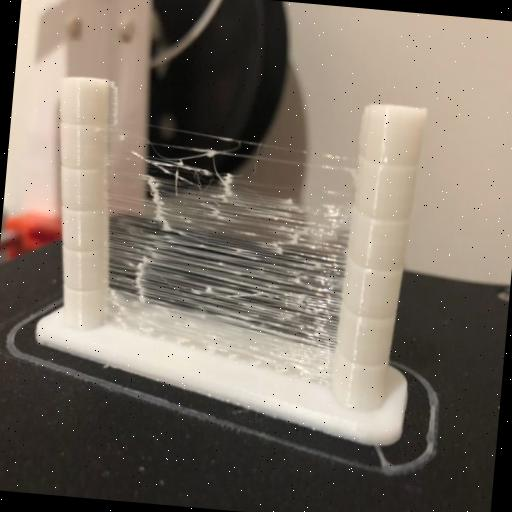stringing: (106, 115, 353, 383)
